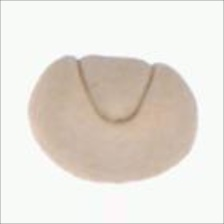L5: (71, 48, 165, 129), (73, 170, 153, 188)
L6: (22, 54, 207, 187)
